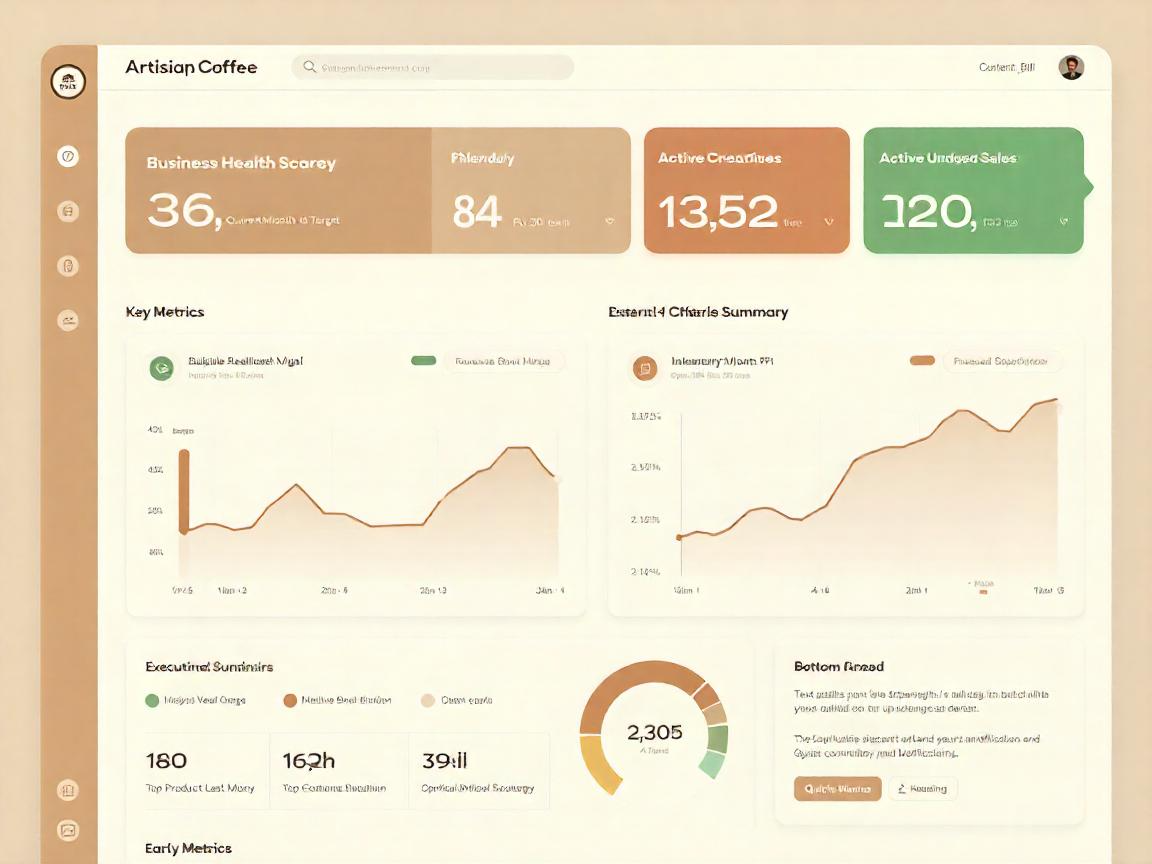

The dashboard page shown, as its layout file describes it:
{"tool":"powerbi","page":{"name":"Home","canvas":[1280,720],"ordinal":0},"visuals":[{"type":"shape","box":[30.8,96.2,199.2,250.8],"z":0},{"type":"textbox","box":[38.4,280.6,167.1,31.7],"z":1000},{"type":"textbox","box":[239.3,92.2,179.1,31.9],"z":2000},{"type":"shape","box":[30.9,380,612.3,313.2],"z":3000},{"type":"textbox","box":[1034.8,30.1,211.9,31.9],"z":4000},{"type":"cardVisual","fields":{"Data":["Fact Table.Last Updated"]},"box":[1034.8,34.6,219,42.6],"z":5000},{"type":"htmlContent443BE3AD55E043BF878BED274D3A6855","fields":{"content":["Graphics.Progress Bar HTML"]},"box":[244.8,128,399,16],"z":6000},{"type":"cardVisual","fields":{"Data":["Fact Table.Current Month vs Target"]},"box":[538.3,70.3,117.9,52.3],"z":7000},{"type":"pageNavigator","box":[34.6,30.1,815.8,31.9],"z":8000},{"type":"gauge","fields":{"Y":["Fact Table.Business Health Score"],"MinValue":["Fact Table.Business Health Score Min"],"MaxValue":["Fact Table.Business Health Score Max"],"TargetValue":["Fact Table.Business Health Score Target"]},"box":[39.4,73.8,184.4,206.6],"z":9000},{"type":"image","box":[55.8,110,156.7,187.9],"z":10000},{"type":"cardVisual","fields":{"Data":["Fact Table.Business Health Score"]},"box":[31.7,269.8,137,85.2],"z":11000},{"type":"shape","box":[243.9,155.4,195.5,134.5],"z":12000},{"type":"shape","box":[448.5,155.4,194.6,134.5],"z":13000},{"type":"textbox","box":[250,171.6,176.7,32],"z":14000},{"type":"textbox","box":[454.9,171.1,177,32],"z":15000},{"type":"textbox","box":[250.3,234,137.8,32],"z":16000},{"type":"textbox","box":[455.1,233.5,138,32],"z":17000},{"type":"cardVisual","fields":{"Data":["Fact Table.Revenue Today"]},"box":[243.7,168,172.5,62.4],"z":18000},{"type":"cardVisual","fields":{"Data":["Fact Table.Revenue This Month"]},"box":[448.5,167.5,172.8,62.4],"z":19000},{"type":"cardVisual","fields":{"Data":["Fact Table.Revenue Yesterday"]},"box":[244,231.6,116.5,54.8],"z":20000},{"type":"cardVisual","fields":{"Data":["Fact Table.Revenue Last Month"]},"box":[448.8,231.1,116.7,54.8],"z":21000},{"type":"image","box":[388.5,242.9,44,41.8],"z":22000},{"type":"image","box":[599.7,247.4,36.8,35.9],"z":23000},{"type":"textbox","box":[295.7,325.8,145,32],"z":23000,"group":"g1"},{"type":"cardVisual","fields":{"Data":["Fact Table.Active Customer Count"]},"box":[290.2,283,112,61.5],"z":24000,"group":"g1"},{"type":"textbox","box":[499.3,325.9,145,32],"z":24000},{"type":"cardVisual","fields":{"Data":["Fact Table.Inventory Alert Count"]},"box":[493.8,283.2,112,61.5],"z":25000},{"type":"shape","box":[245,302.5,45,45.1],"z":25000,"group":"g1"},{"type":"shape","box":[448.5,302.7,45,45.1],"z":26000},{"type":"image","box":[246.6,305.1,41.3,40.3],"z":26000,"group":"g1"},{"type":"group","id":"g1","title":"Group 1","box":[245,283,195.7,74.8],"z":27000},{"type":"image","box":[450.5,306.2,41,39.2],"z":28000},{"type":"areaChart","fields":{"Category":["Current Month Dates.Day"],"Y":["Fact Table.Daily Revenue"]},"box":[30.9,419.3,612.3,262.3],"z":29000},{"type":"cardVisual","fields":{"Data":["Graphics.Revenue Trend Title"]},"box":[31.9,403.4,172.9,44.3],"z":30000},{"type":"textbox","box":[37.2,389.3,228.8,39],"z":31000},{"type":"shape","box":[669.9,428.5,577.2,264.8],"z":32000},{"type":"funnel","fields":{"Category":["Customer Aquisition Funnel Stages.Stage"],"Y":["Customer Aquisition Funnel Stages.Funnel Value"]},"box":[680.7,481.1,557.1,200.5],"z":33000},{"type":"textbox","box":[680.7,439.2,278.1,39.3],"z":34000},{"type":"textbox","box":[680.7,460.9,263.9,31.7],"z":35000},{"type":"shape","box":[669.9,96.1,577.2,312.4],"z":36000},{"type":"clusteredBarChart","fields":{"Category":["Orders.order_type"],"Y":["Fact Table.Current Month Product Sales"]},"box":[701.6,142.8,545.4,120.3],"z":37000},{"type":"clusteredBarChart","fields":{"Y":["Fact Table.Current Month Product Sales"],"Category":["Orders.payment_method"]},"box":[680.7,258.9,566.3,149.5],"z":38000},{"type":"textbox","box":[679.7,102.7,278.1,39.3],"z":39000},{"type":"textbox","box":[679.9,145.3,263.9,31.7],"z":40000},{"type":"textbox","box":[679.9,248.1,263.9,31.7],"z":41000}]}

Visuals, with their boxes on the page's 1280x720 design canvas (x1, y1, x2, y2). These are canvas units, not pixel positions in the 1152x864 screenshot, which may show the page scaled, cropped or inside an application window:
shape: box=[31, 96, 230, 347]
textbox: box=[38, 281, 206, 312]
textbox: box=[239, 92, 418, 124]
shape: box=[31, 380, 643, 693]
textbox: box=[1035, 30, 1247, 62]
cardVisual - Fact Table.Last Updated: box=[1035, 35, 1254, 77]
htmlContent443BE3AD55E043BF878BED274D3A6855 - Graphics.Progress Bar HTML: box=[245, 128, 644, 144]
cardVisual - Fact Table.Current Month vs Target: box=[538, 70, 656, 123]
pageNavigator: box=[35, 30, 850, 62]
gauge - Fact Table.Business Health Score x Fact Table.Business Health Score Min: box=[39, 74, 224, 280]
image: box=[56, 110, 212, 298]
cardVisual - Fact Table.Business Health Score: box=[32, 270, 169, 355]
shape: box=[244, 155, 439, 290]
shape: box=[448, 155, 643, 290]
textbox: box=[250, 172, 427, 204]
textbox: box=[455, 171, 632, 203]
textbox: box=[250, 234, 388, 266]
textbox: box=[455, 234, 593, 266]
cardVisual - Fact Table.Revenue Today: box=[244, 168, 416, 230]
cardVisual - Fact Table.Revenue This Month: box=[448, 168, 621, 230]
cardVisual - Fact Table.Revenue Yesterday: box=[244, 232, 360, 286]
cardVisual - Fact Table.Revenue Last Month: box=[449, 231, 566, 286]
image: box=[388, 243, 432, 285]
image: box=[600, 247, 636, 283]
textbox: box=[296, 326, 441, 358]
cardVisual - Fact Table.Active Customer Count: box=[290, 283, 402, 344]
textbox: box=[499, 326, 644, 358]
cardVisual - Fact Table.Inventory Alert Count: box=[494, 283, 606, 345]
shape: box=[245, 302, 290, 348]
shape: box=[448, 303, 494, 348]
image: box=[247, 305, 288, 345]
"Group 1" group: box=[245, 283, 441, 358]
image: box=[450, 306, 492, 345]
areaChart - Current Month Dates.Day x Fact Table.Daily Revenue: box=[31, 419, 643, 682]
cardVisual - Graphics.Revenue Trend Title: box=[32, 403, 205, 448]
textbox: box=[37, 389, 266, 428]
shape: box=[670, 428, 1247, 693]
funnel - Customer Aquisition Funnel Stages.Stage x Customer Aquisition Funnel Stages.Funnel Value: box=[681, 481, 1238, 682]
textbox: box=[681, 439, 959, 478]
textbox: box=[681, 461, 945, 493]
shape: box=[670, 96, 1247, 408]
clusteredBarChart - Orders.order_type x Fact Table.Current Month Product Sales: box=[702, 143, 1247, 263]
clusteredBarChart - Fact Table.Current Month Product Sales x Orders.payment_method: box=[681, 259, 1247, 408]
textbox: box=[680, 103, 958, 142]
textbox: box=[680, 145, 944, 177]
textbox: box=[680, 248, 944, 280]
